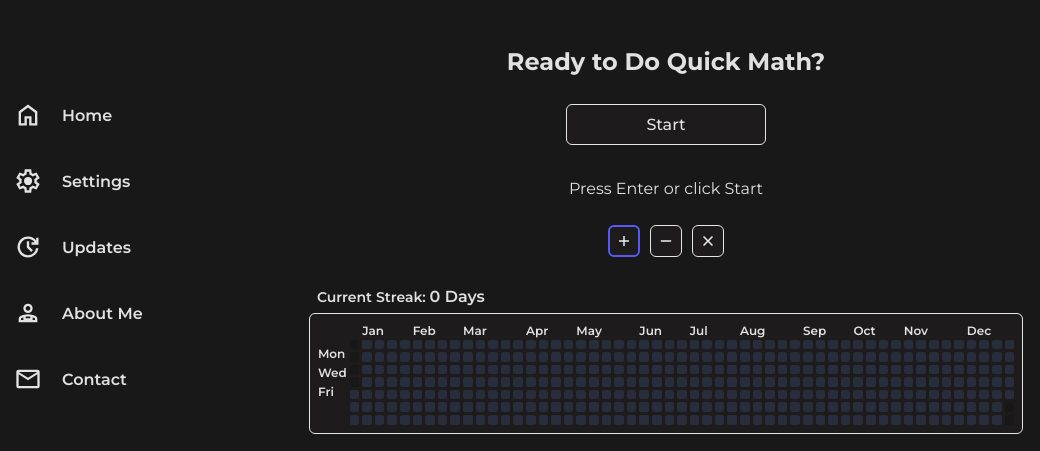
it: ScorePanel navigation behavior › Shows ScorePanel after completing the game
Click the button "Start" at (666, 124), box [566,104,766,144]
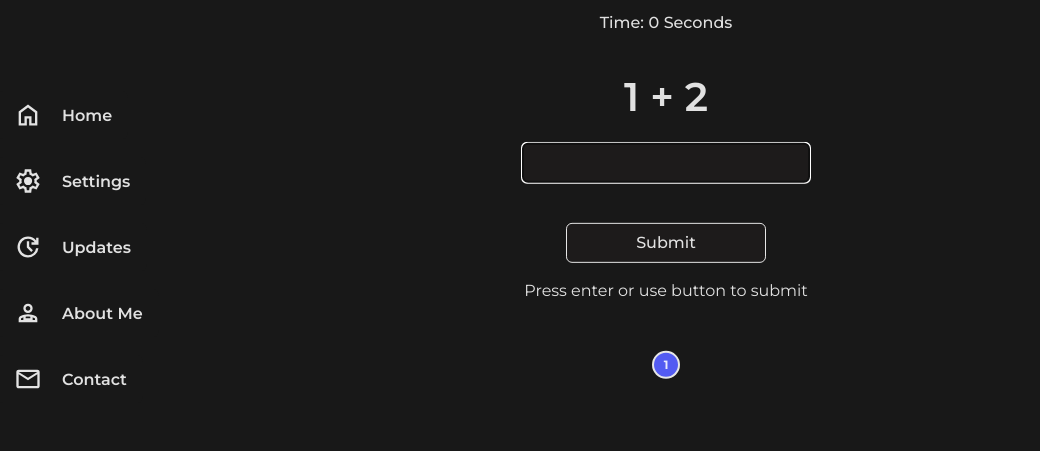
Type "3" into the field named "answer-input" at (666, 162), box [522,142,810,182]
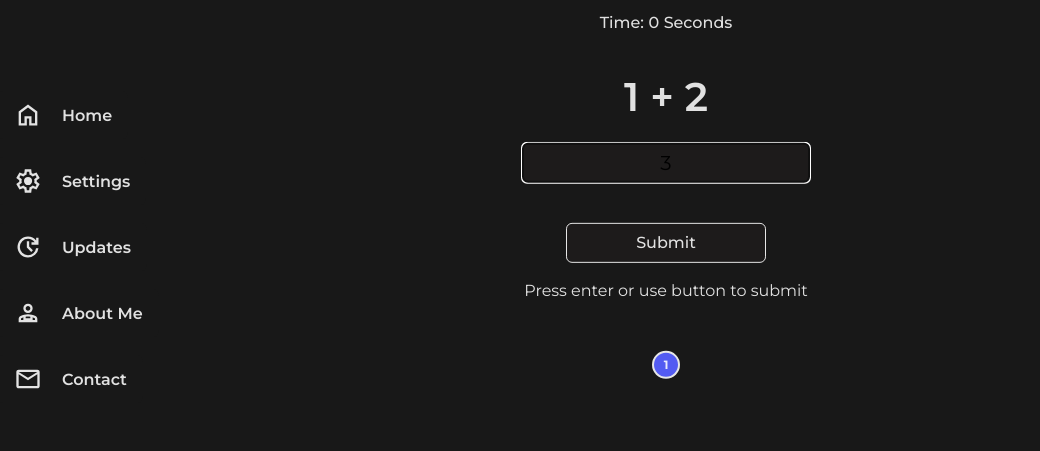
Click the button "Submit" at (666, 242), box [566,222,766,263]
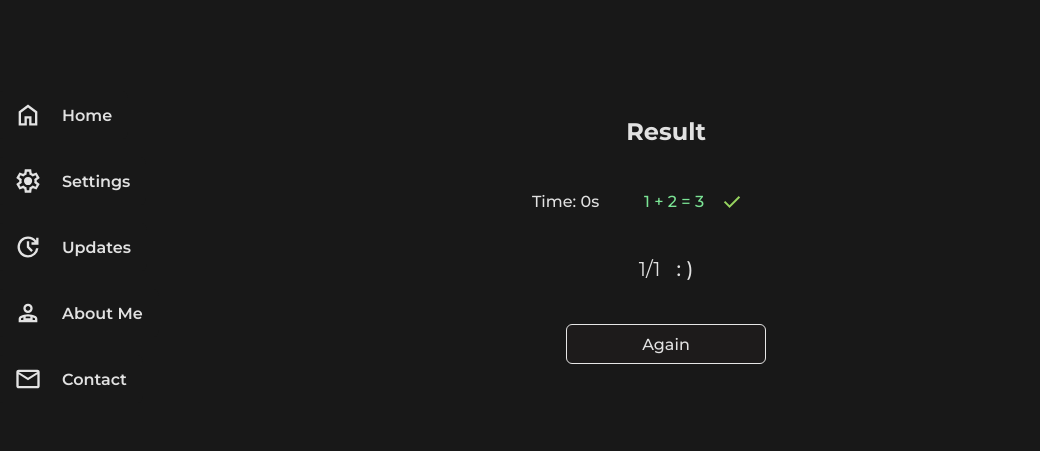
Expected: the heading "Result" is shown, [626,114,706,150]
Expected: the button "Again" is shown, [566,324,766,364]
